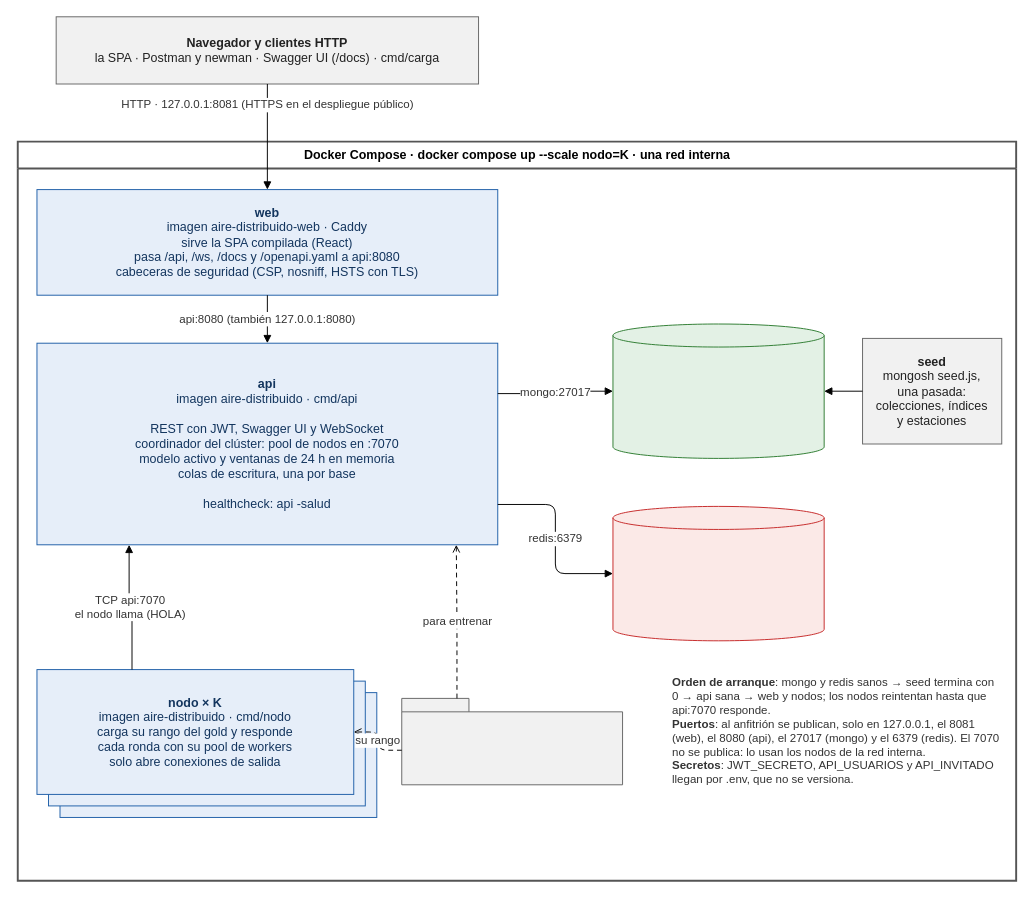
Some shapes in this 1033 by 899 pixel diagram are drawn without their labels. Each missing label, with the centre of its shape:
"data/gold (no se versiona) oefa_features.csv montado de solo lectura" goes at (x=512, y=741).
"mongo MongoDB volumen mongo_data healthcheck: mongosh ping" goes at (x=718, y=390).
"redis Redis con appendonly volumen redis_data healthcheck: redis-cli ping" goes at (x=718, y=573).
